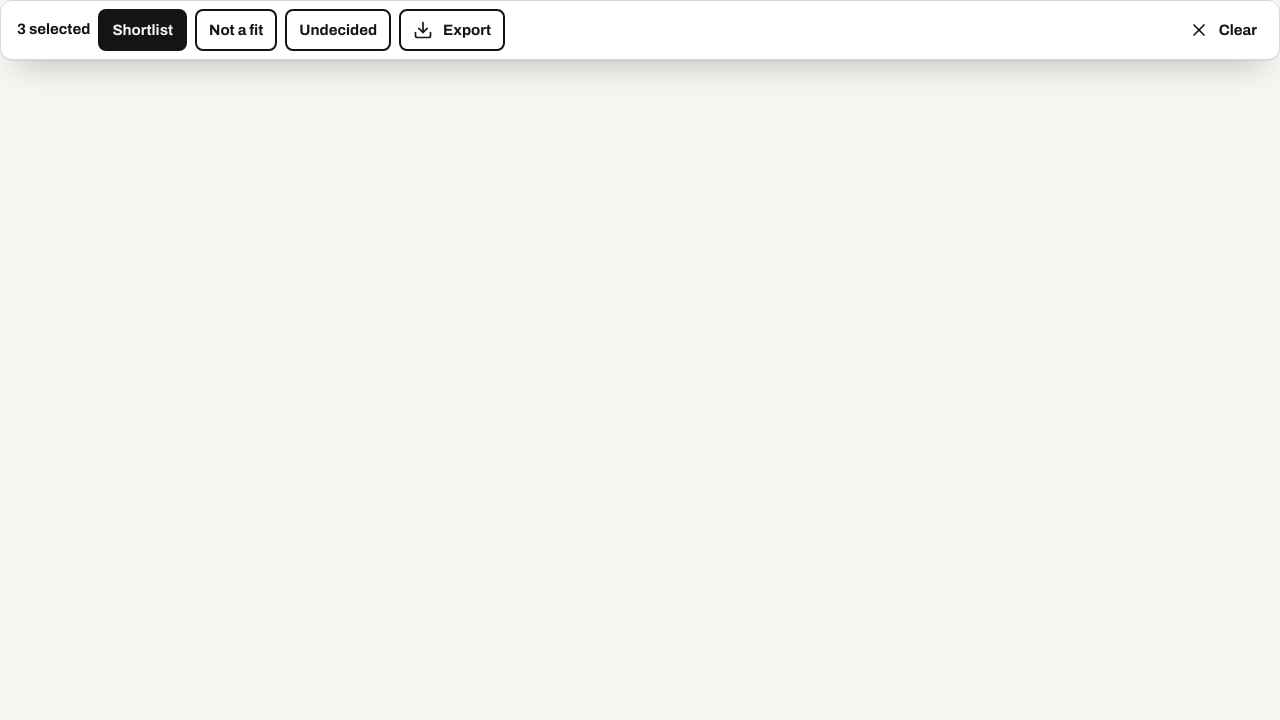
BulkBar › exports the job's CSV from a menu when it's on a job
Click the button with aria-label "Export CSV" at (452, 30), box [399, 9, 505, 51]
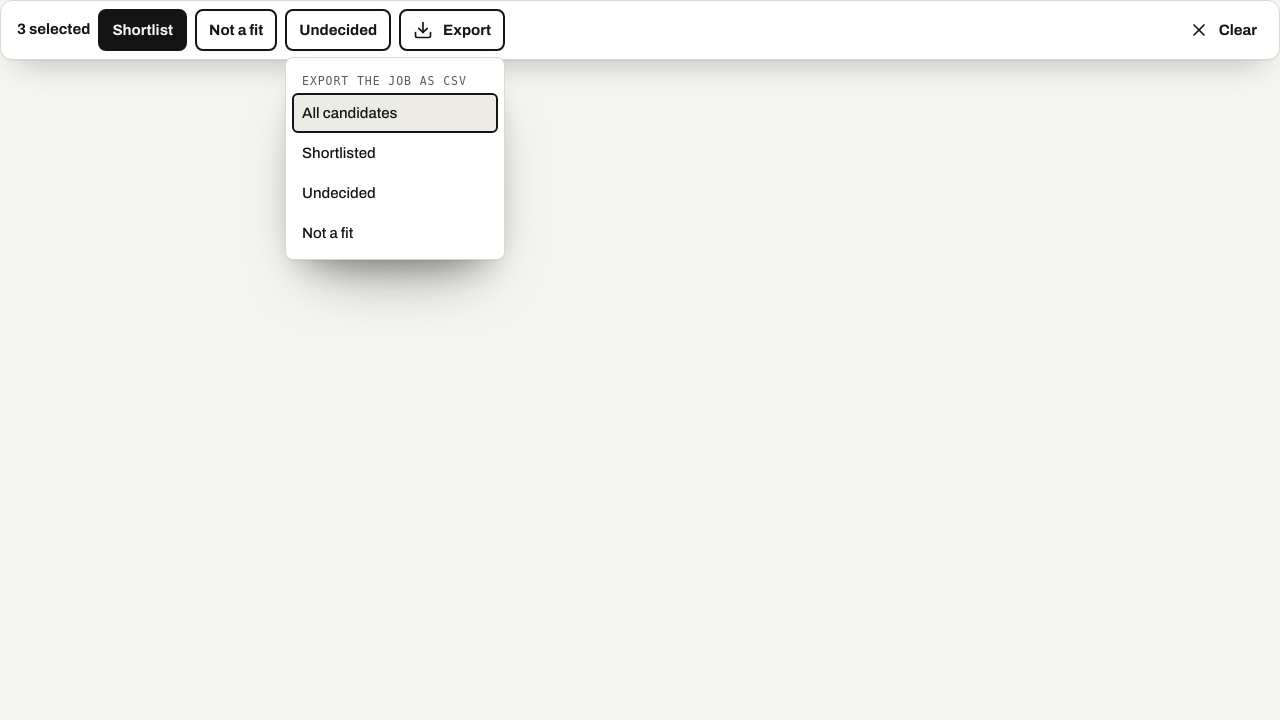
Click the menu item "Shortlisted" at (395, 153), box [292, 133, 498, 173]
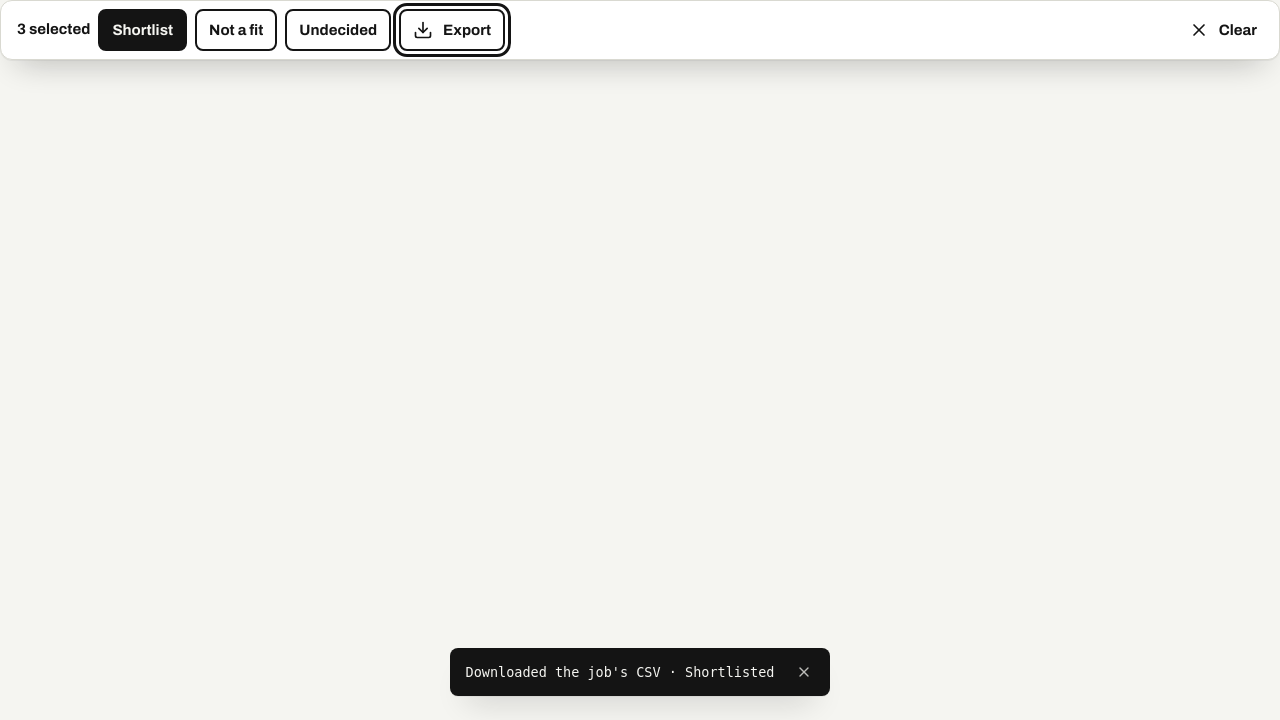
Check: the text "Downloaded the job's CSV · Shortlisted" is shown, box [466, 664, 774, 680]
